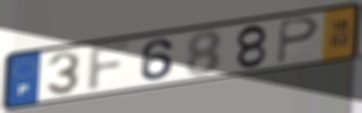3: (45, 50, 82, 98)
6: (140, 38, 176, 82)
8: (185, 28, 226, 78), (235, 24, 267, 70)
F: (84, 39, 136, 95)
P: (276, 16, 322, 66)
